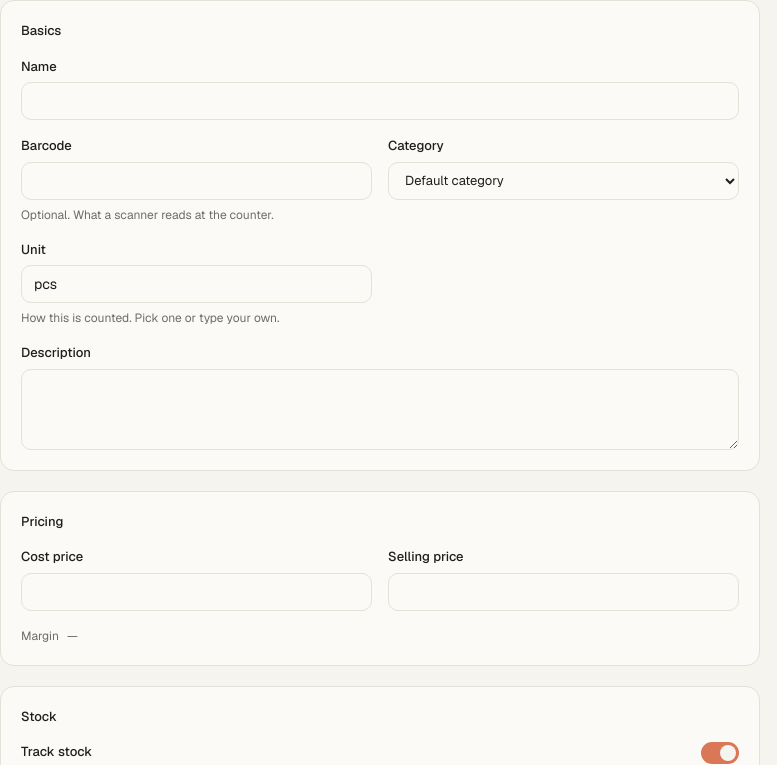
Test: ProductForm › reads margin off the selling price, the way the canvas does
In the number field labelled "Cost price": (196,592) [21,573,372,611], type "9.10"
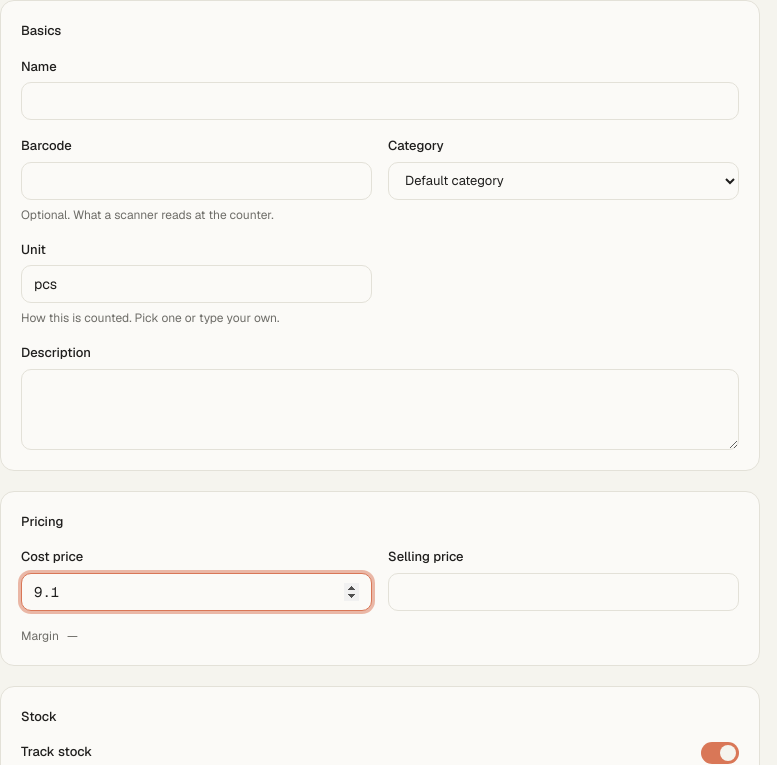
In the number field labelled "Selling price": (564,592) [388,573,739,611], type "12.40"
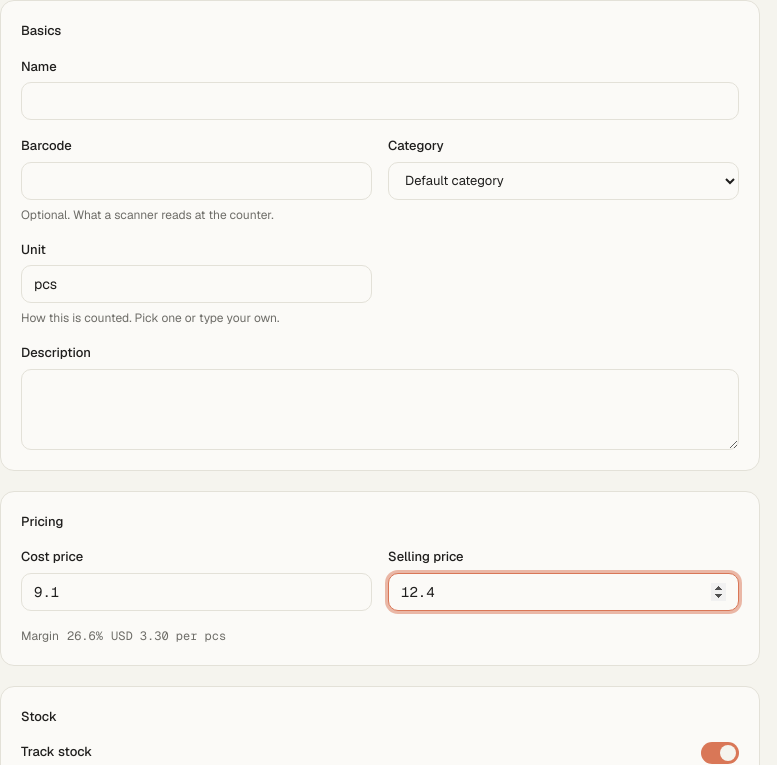
Now the text "26.6%" is shown, box [67,627,103,645]
